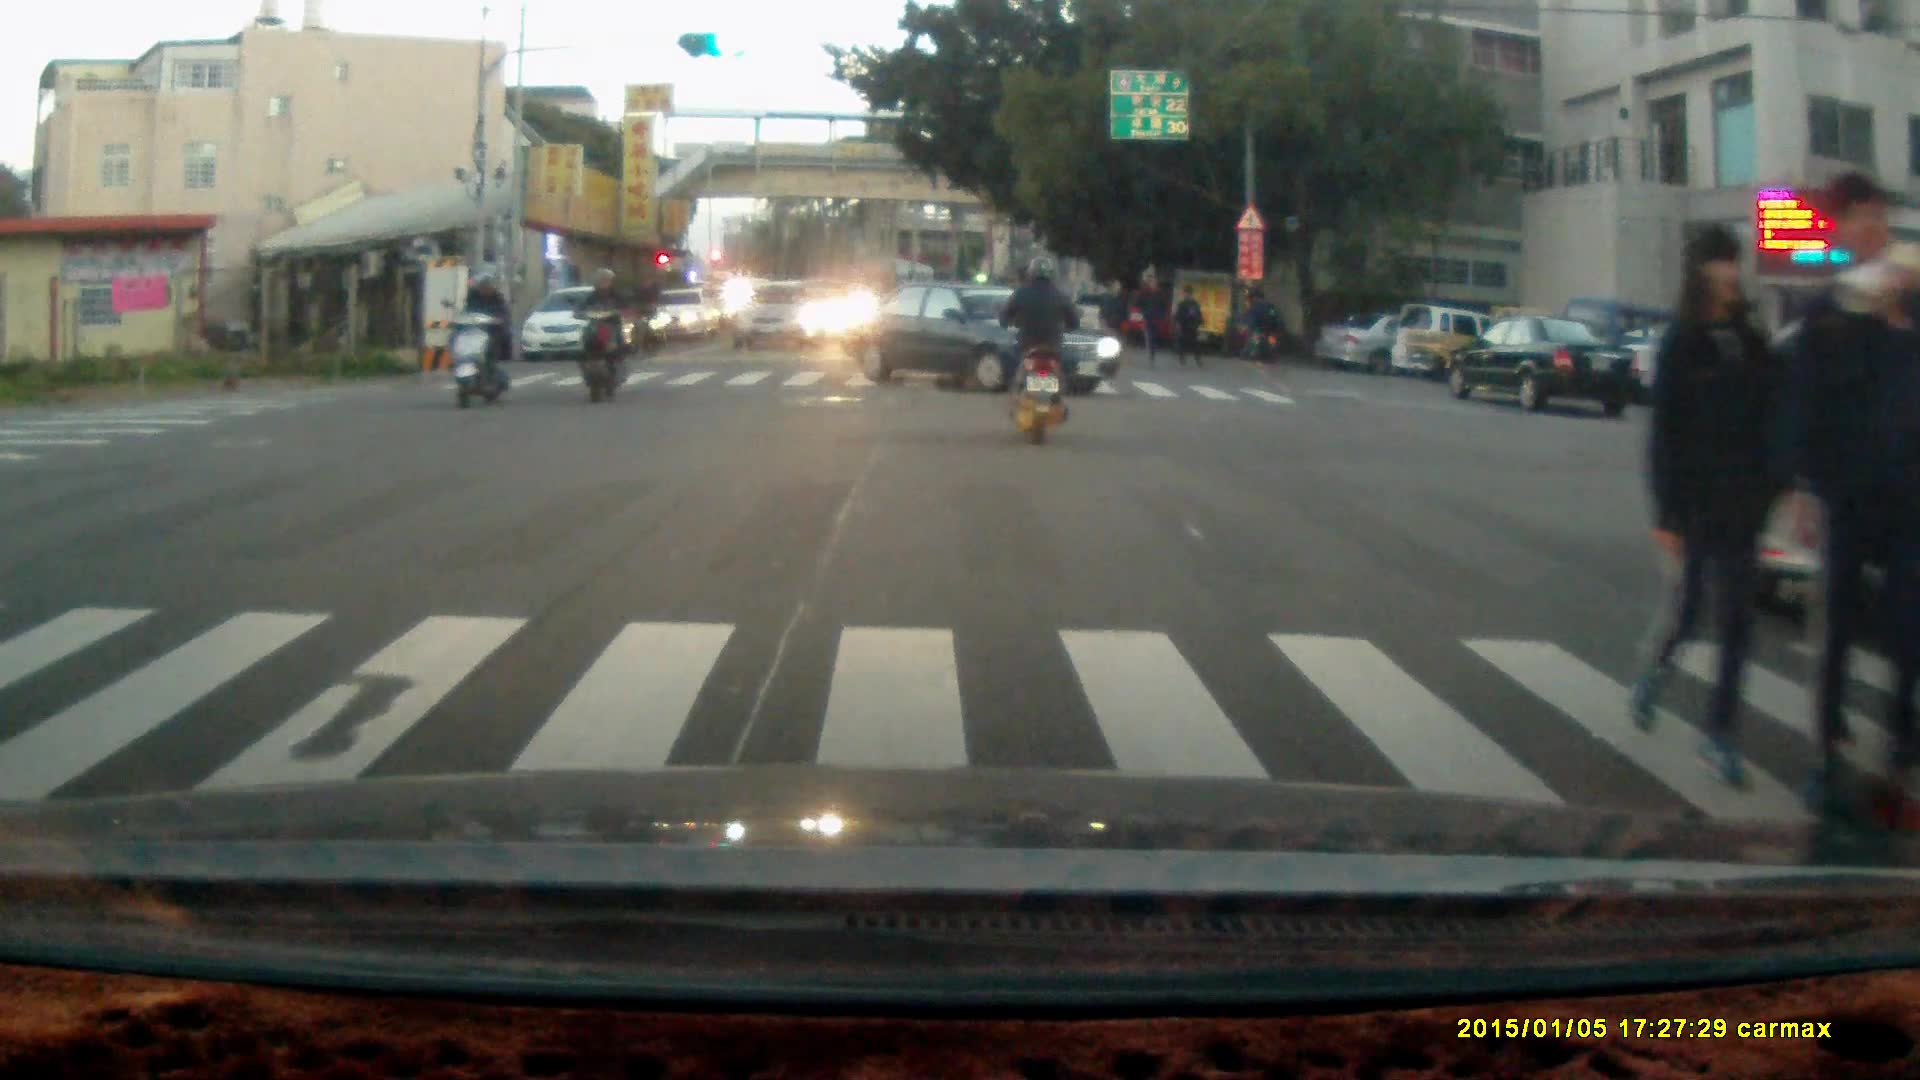pedestrian: (1629, 218, 1785, 791), (1796, 173, 1906, 813), (1134, 272, 1168, 367), (1172, 282, 1205, 373), (1097, 278, 1127, 360), (1248, 288, 1279, 365)
rider: (992, 252, 1079, 447), (567, 264, 635, 404), (448, 264, 514, 408)
vehicle: (834, 275, 1123, 399), (1454, 315, 1640, 413), (1315, 310, 1492, 376), (523, 288, 641, 367), (736, 282, 826, 358)
